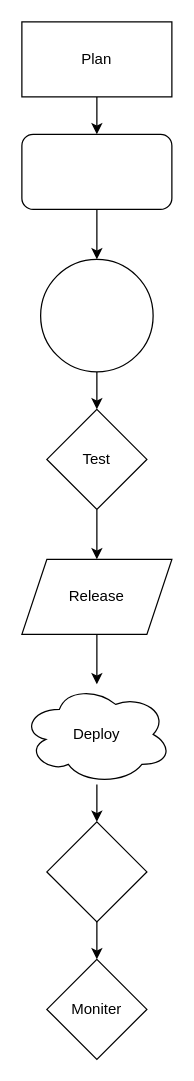
The diagram is 194 pixels wide and 1081 high, and some of its shapes have lost their labels. Each missing label, with the centre of its shape:
Build: point (96, 315)
Develop: point (96, 171)
Operater: point (96, 871)
